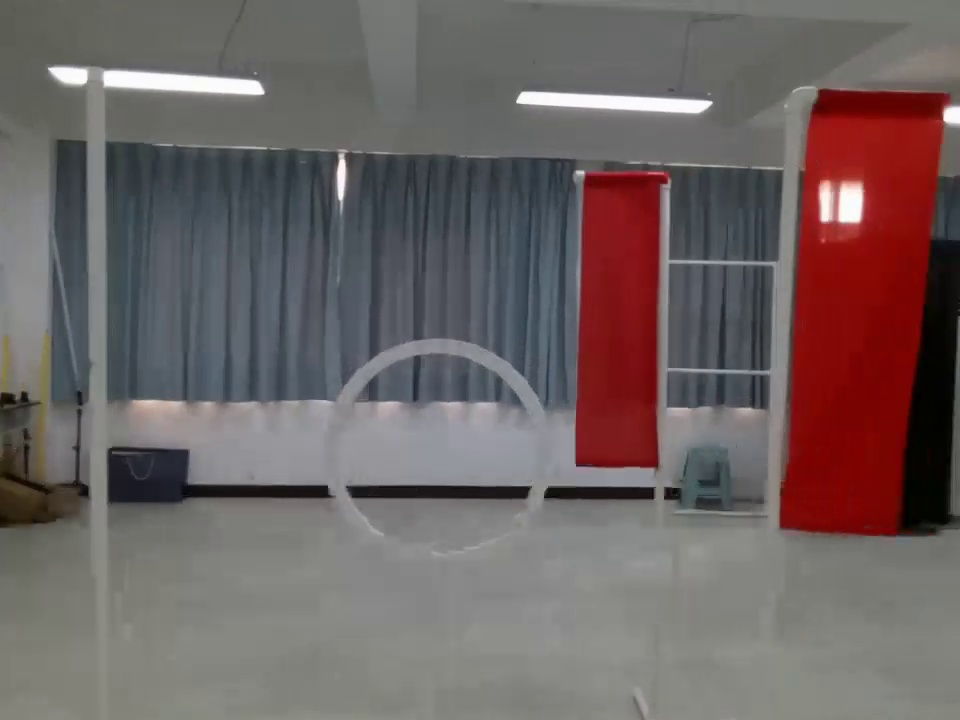gan: (77, 58, 120, 720)
qi: (783, 74, 948, 543), (563, 163, 682, 500)
quan: (318, 333, 558, 573)
